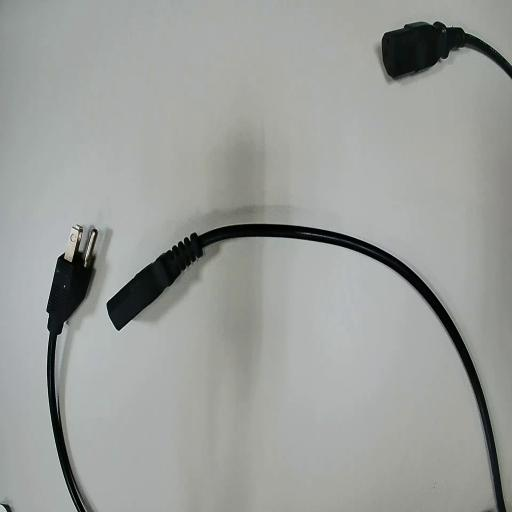wire: (108, 224, 505, 511), (48, 243, 94, 511), (382, 23, 511, 78)
